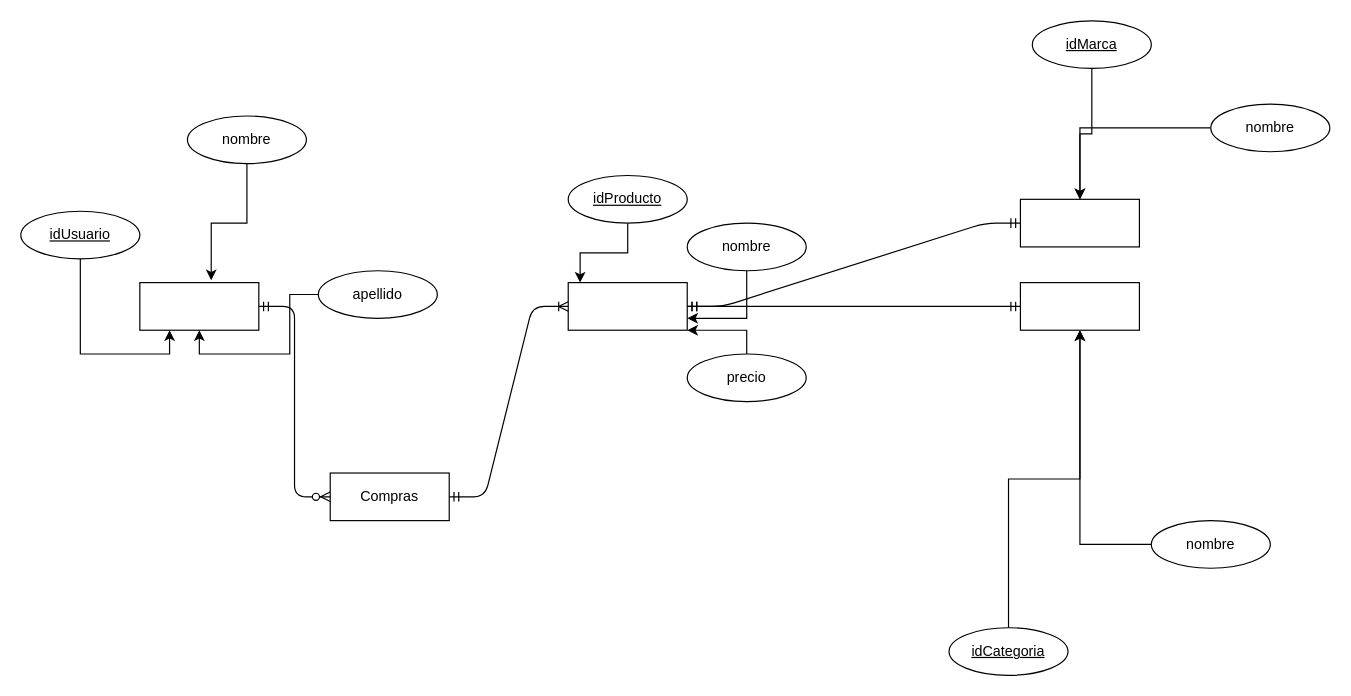
The diagram is 1351 pixels wide and 696 high, and some of its shapes have lost their labels. Here are the shapes that lost their labels. From the top down, the centre of each, then its label:
(x=1079, y=222): Marcas
(x=199, y=305): Usuarios
(x=627, y=305): Productos
(x=1079, y=305): Categorias
